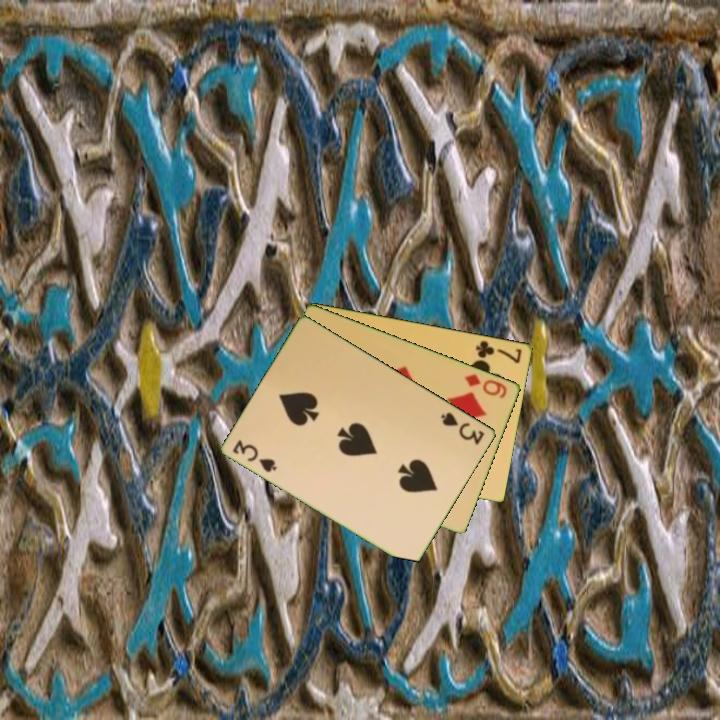3s: (438, 408, 488, 448), (229, 436, 280, 475)
6d: (461, 370, 510, 401)
7c: (472, 337, 525, 366)
